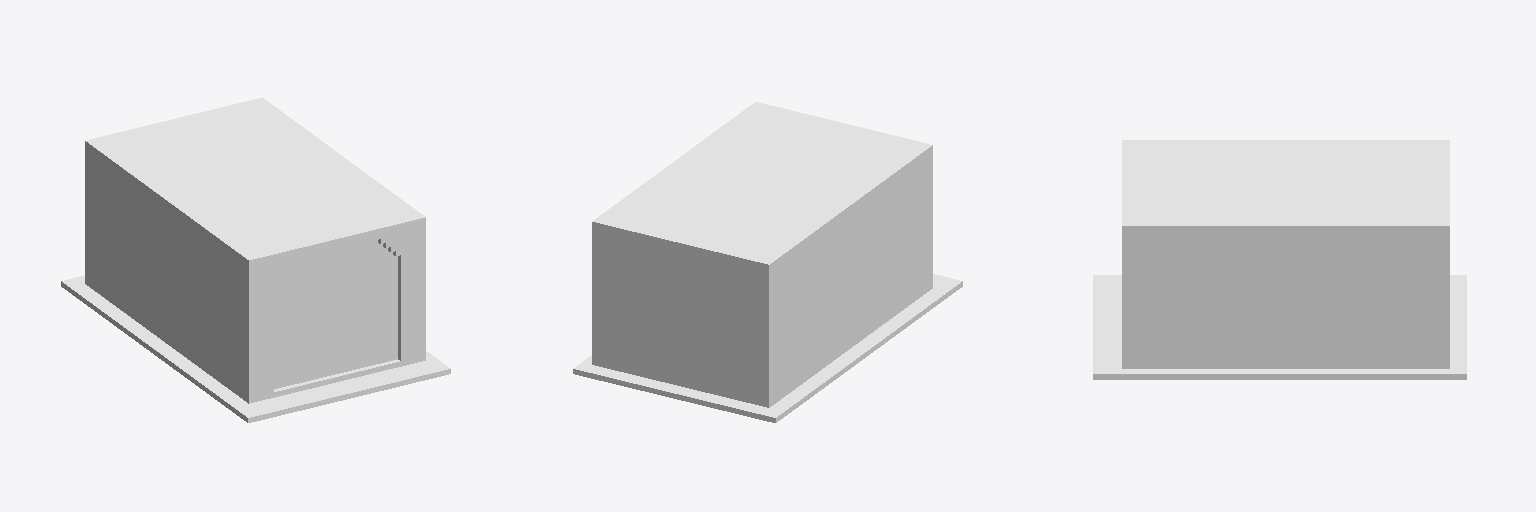
The model's file is botHouse.obj.
The picture shows the model from 3 angles: view 1: azimuth 30°, elevation 25°; view 2: azimuth 150°, elevation 25°; view 3: azimuth 270°, elevation 25°; orthographic projection.
Visible parts, largest first — view 1: object 1; view 2: object 1; view 3: object 1.
Part boxes in pixels (left/top/right/bottom): object 1: left=61, top=97, right=450, bottom=422; object 1: left=573, top=102, right=962, bottom=422; object 1: left=1093, top=140, right=1466, bottom=379.
Bounding box in the file's own units: 4 × 2.8 × 6.4.